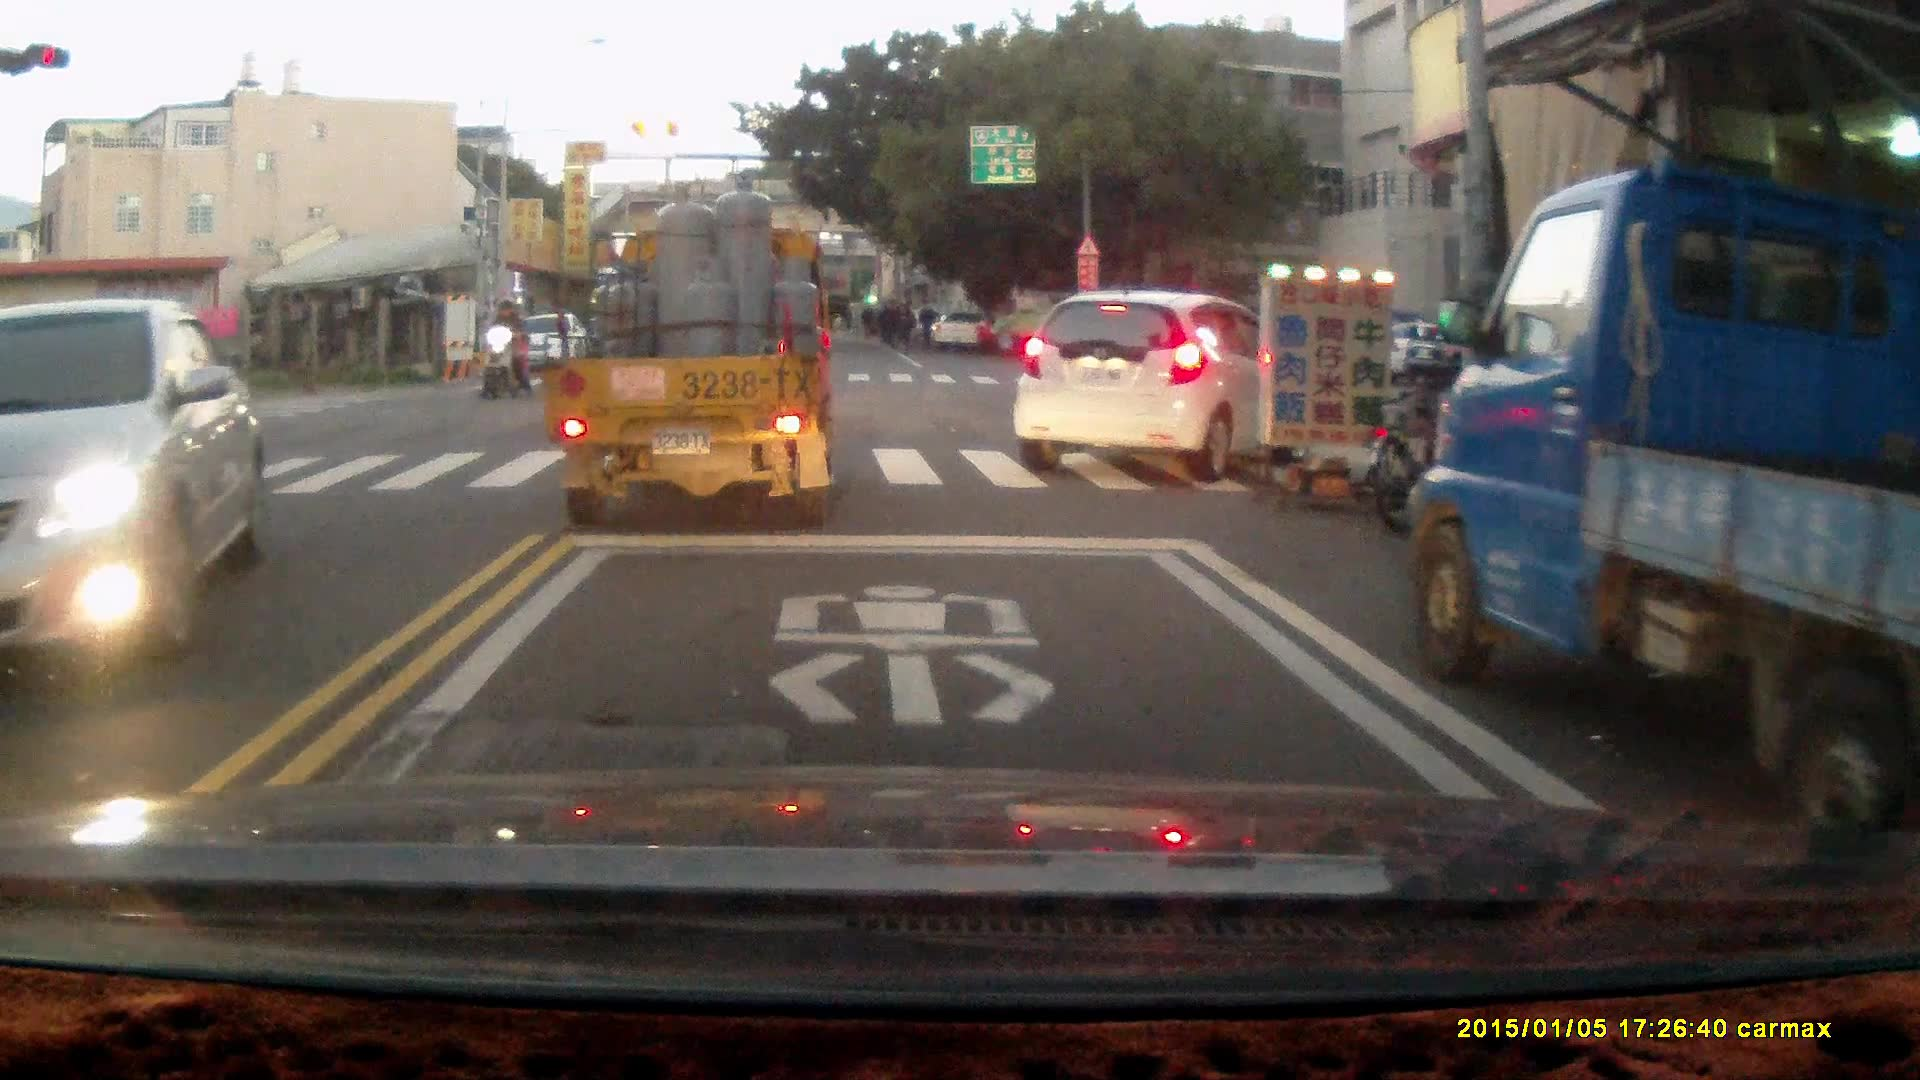rider: (479, 298, 532, 400)
vehicle: (1398, 172, 1920, 817), (540, 176, 841, 528), (1, 297, 263, 685), (1011, 287, 1286, 470), (507, 312, 588, 379)
